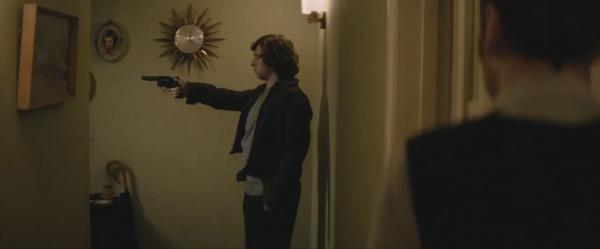Gun: (144, 74, 183, 98)
